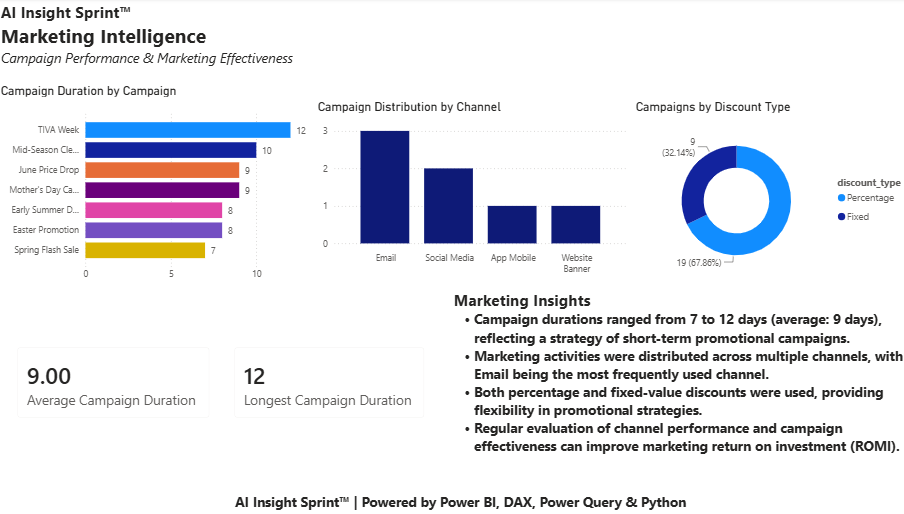

What the dashboard file says about the page in this screenshot:
{"tool":"powerbi","page":{"name":"Marketing Intelligence","canvas":[1280,720],"ordinal":3},"visuals":[{"type":"textbox","box":[10,0,280,280],"z":0},{"type":"textbox","box":[0,0,531.8,113.6],"z":1000},{"type":"barChart","title":"Campaign Duration by Campaign","fields":{"Category":["Campaigns.campaign_name"],"Series":["Campaigns.campaign_name"],"Y":["Sum(Campaigns.Campaign Duration (Days))"]},"box":[0,117.5,437.8,282.2],"z":2000},{"type":"columnChart","title":"Campaign Distribution by Channel","fields":{"Category":["Campaigns.Channel"],"Y":["CountNonNull(Campaigns.campaign_name)"]},"box":[437.8,138.8,437.8,250.2],"z":3000},{"type":"donutChart","title":"Campaigns by Discount Type","fields":{"Category":["Campaigns.discount_type"],"Y":["Sum(Campaigns.campaign_id)"]},"box":[875.6,138.8,392,250.2],"z":4000},{"type":"cardVisual","fields":{"Data":["Measures (2).Average Campaign Duration"]},"box":[10.8,465.1,299.3,131.6],"z":5000},{"type":"cardVisual","fields":{"Data":["Measures (2).Longest Campaign Duration"]},"box":[309.7,465.3,296,131.6],"z":6000},{"type":"textbox","box":[625.4,396.6,642.2,254.7],"z":7000},{"type":"textbox","box":[10.7,677.3,1256.9,38.1],"z":7001}]}

Visuals, with their boxes in screenshot pixels (x1, y1, x2, y2), scaled from the page's 1280x720 canvas onto the 904x514 screenshot:
textbox: <bbox>7, 0, 205, 200</bbox>
textbox: <bbox>0, 0, 376, 81</bbox>
"Campaign Duration by Campaign" barChart: <bbox>0, 84, 309, 285</bbox>
"Campaign Distribution by Channel" columnChart: <bbox>309, 99, 618, 278</bbox>
"Campaigns by Discount Type" donutChart: <bbox>618, 99, 895, 278</bbox>
cardVisual - Measures (2).Average Campaign Duration: <bbox>8, 332, 219, 426</bbox>
cardVisual - Measures (2).Longest Campaign Duration: <bbox>219, 332, 428, 426</bbox>
textbox: <bbox>442, 283, 895, 465</bbox>
textbox: <bbox>8, 484, 895, 511</bbox>
